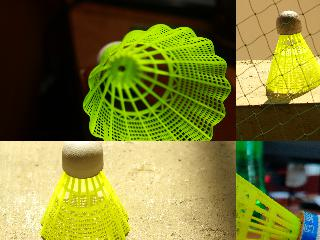shuttlecock: (83, 22, 232, 140), (40, 141, 130, 239), (236, 141, 319, 239), (266, 10, 319, 93)
